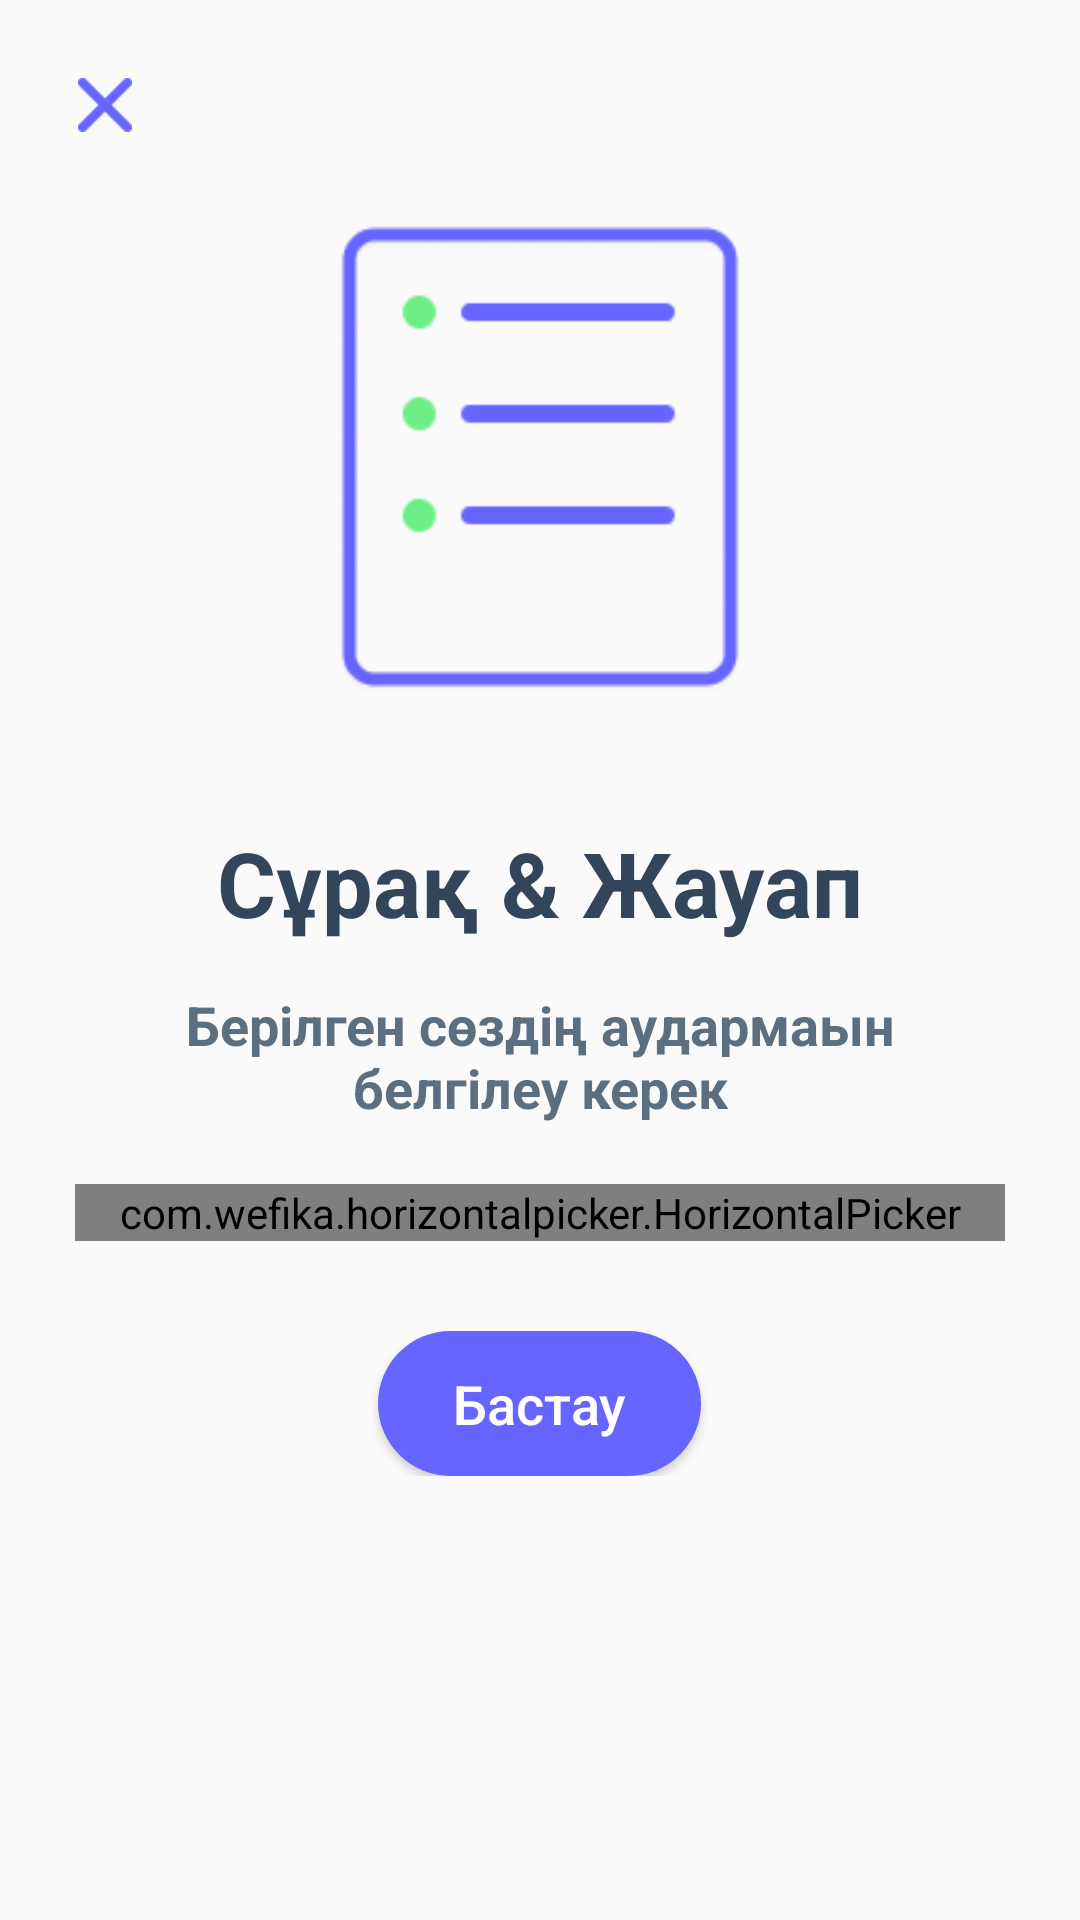

Icons on this 1080×1920 Android screen, each with the point to tap as (x,y):
close: (105,105)
